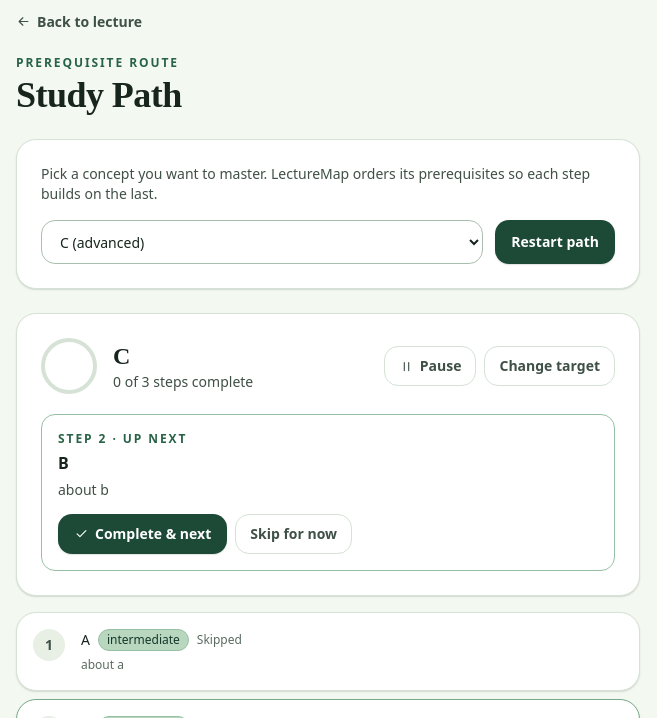
Study Path page › restores the saved path after a refresh, including skips and pause
Expected: the element named "Current step" shows "B", [58,452,69,474]
Click the button "Pause" at point(430, 366), box [384,346,476,386]
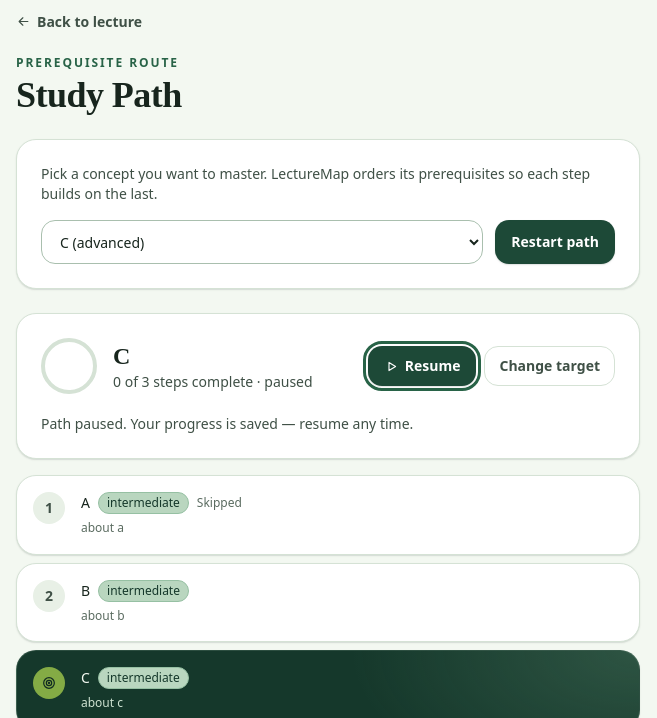
Click the button "Resume" at point(422, 366), box [368,346,476,386]
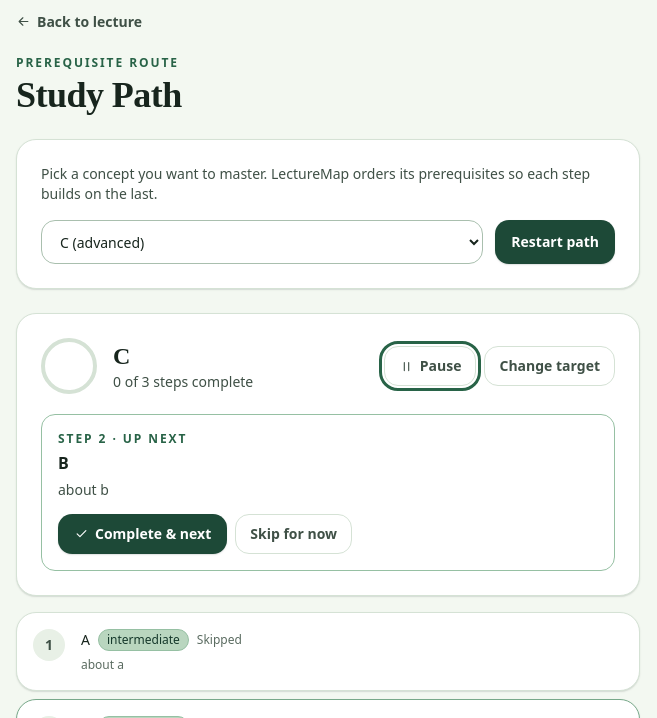
Now the element named "Current step" is shown, box [41,414,615,571]
